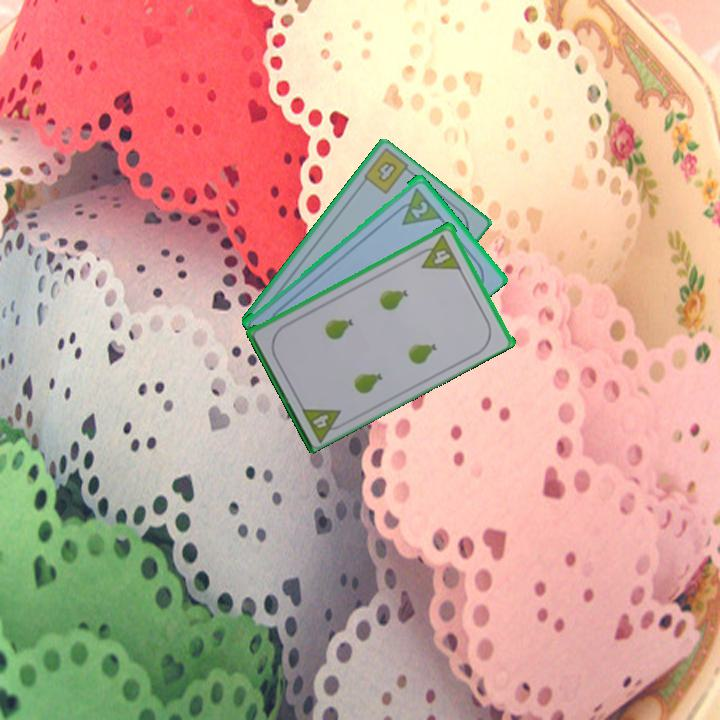2p: (407, 197, 431, 221)
4b: (373, 157, 400, 185)
4p: (420, 243, 461, 272), (309, 410, 332, 431)
